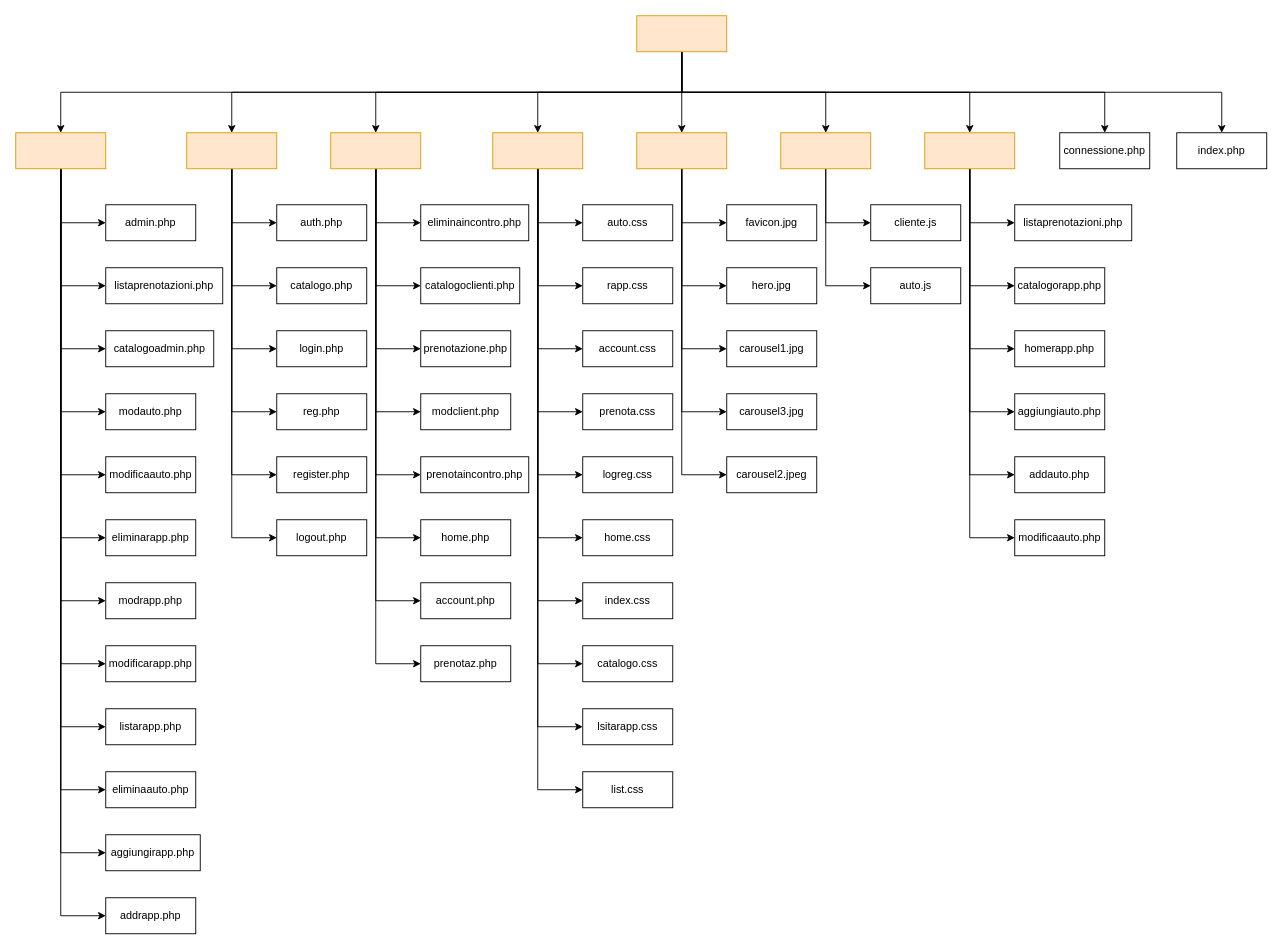
This 1283x950 diagram has some shape labels left out. The shapes that lost their labels are listed below. From the top down, each one's centre as x and y in pixels, then its label:
point (681, 33): concessionaria
point (60, 150): admin
point (231, 150): all
point (375, 150): clienti
point (537, 150): css
point (681, 150): img
point (825, 150): js
point (969, 150): rappresentanti
